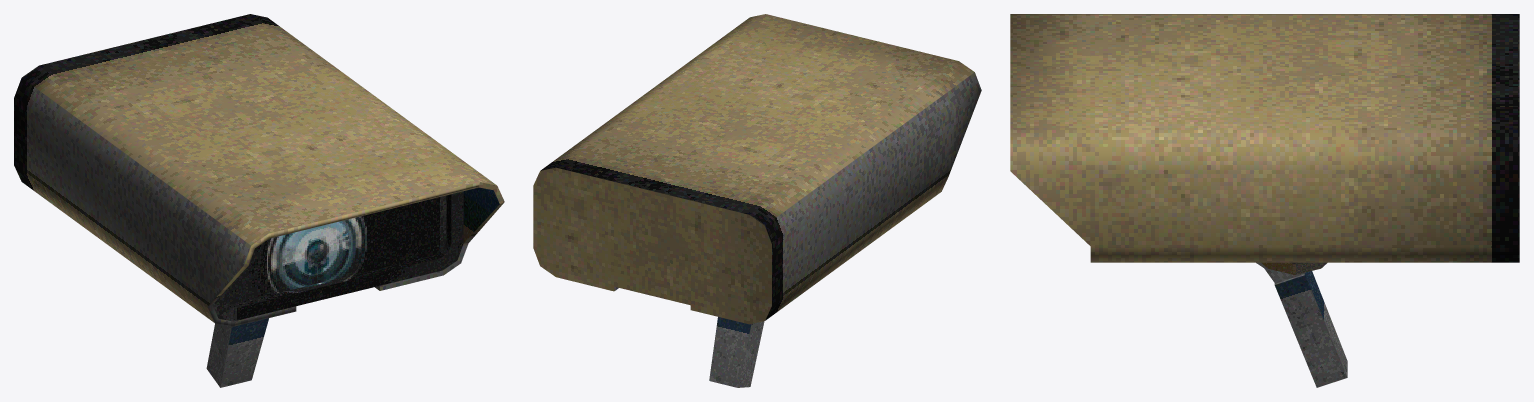
File: cctv_a.glb
3 renders of one model, left to right at view 1: azimuth 30°, elevation 25°; view 2: azimuth 150°, elevation 25°; view 3: azimuth 270°, elevation 25°, orthographic. The views are drawn at different scales.
Parts seen in each view (by area): view 1: CCTV_A.001; view 2: CCTV_A.001; view 3: CCTV_A.001.
Boxes of the visible parts, x1=… form: CCTV_A.001: x1=14, y1=14, x2=504, y2=387; CCTV_A.001: x1=533, y1=14, x2=981, y2=387; CCTV_A.001: x1=1010, y1=14, x2=1519, y2=387.
Bounding box in the file's own units: 0.1996 × 0.2027 × 0.304.
Materials: 1 (1 with a texture image).
